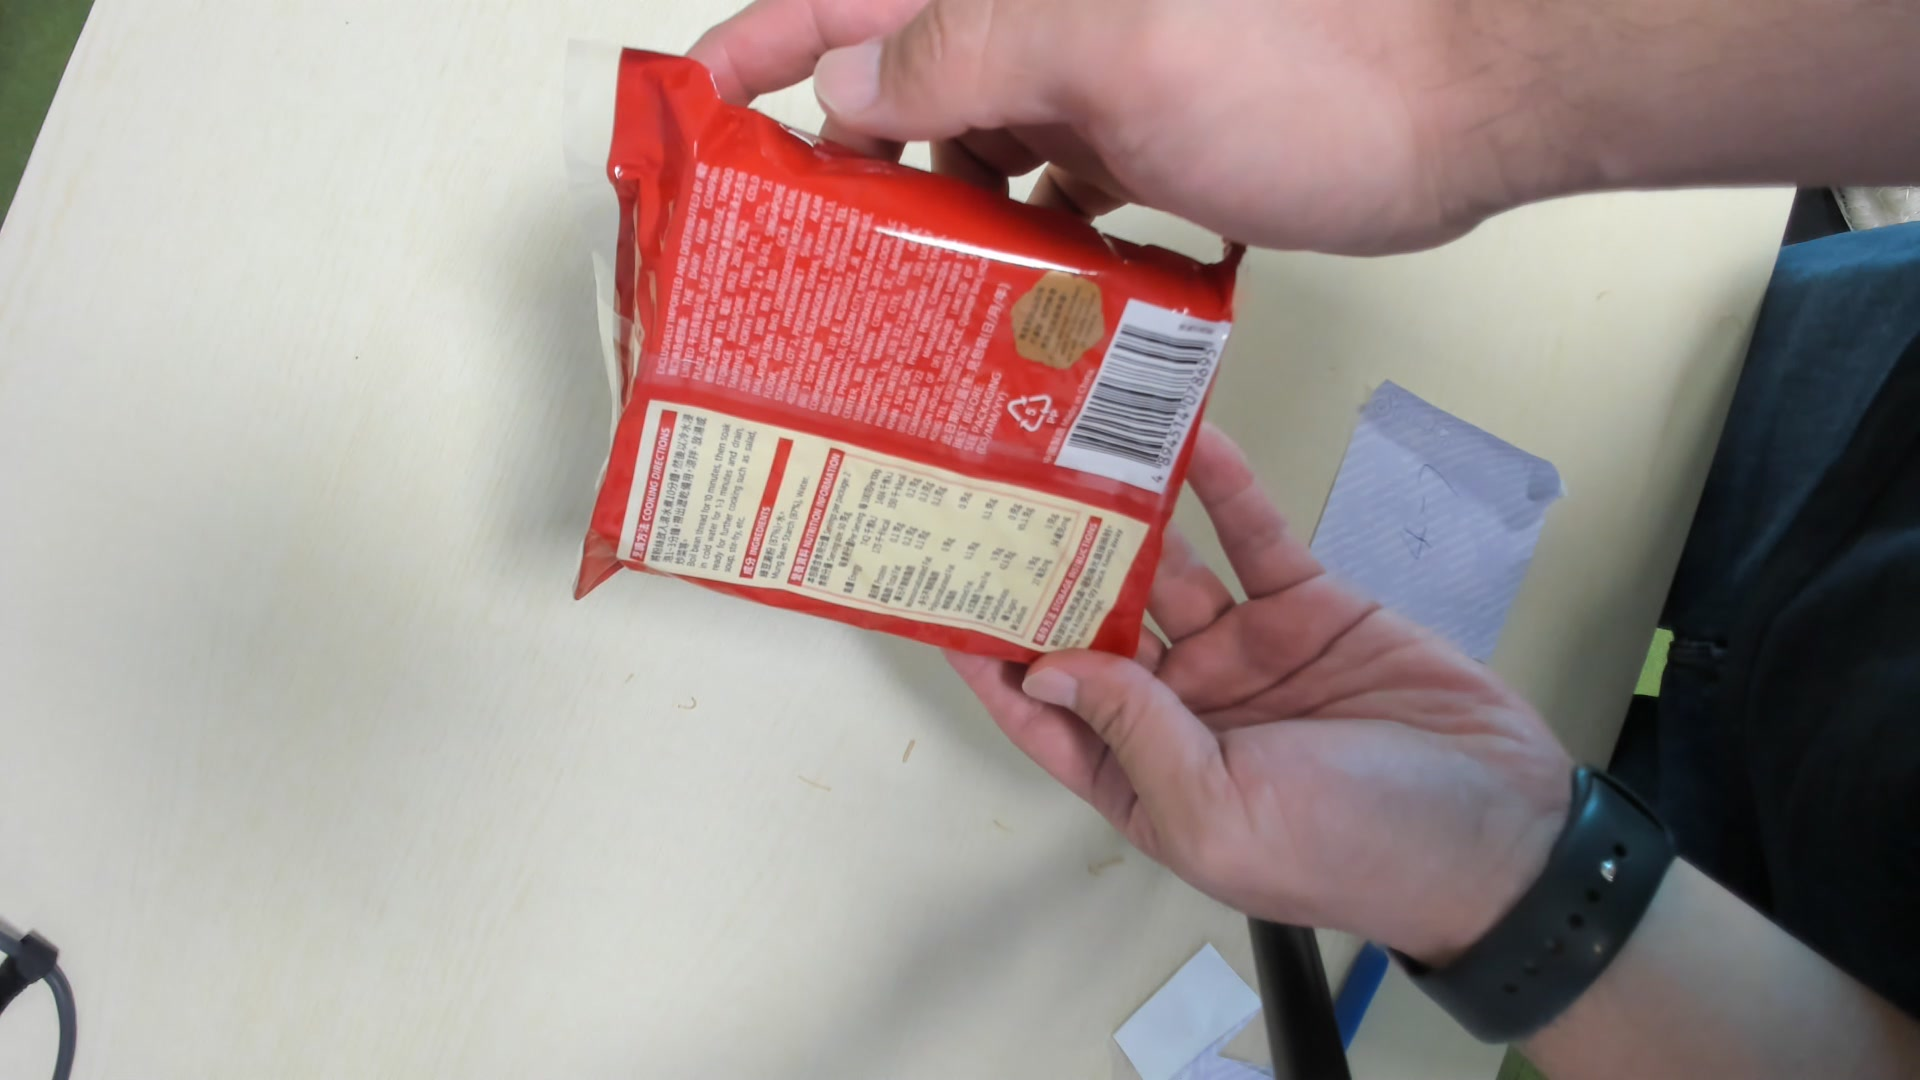BeeHoonVermicelli_100-199g_NonHalal_NonHealthy: (588, 105, 1213, 665)
